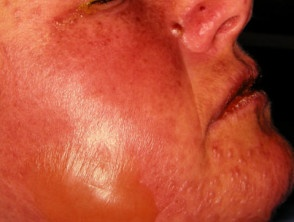SJS-TEN: (6, 129, 276, 222), (44, 0, 105, 42)
